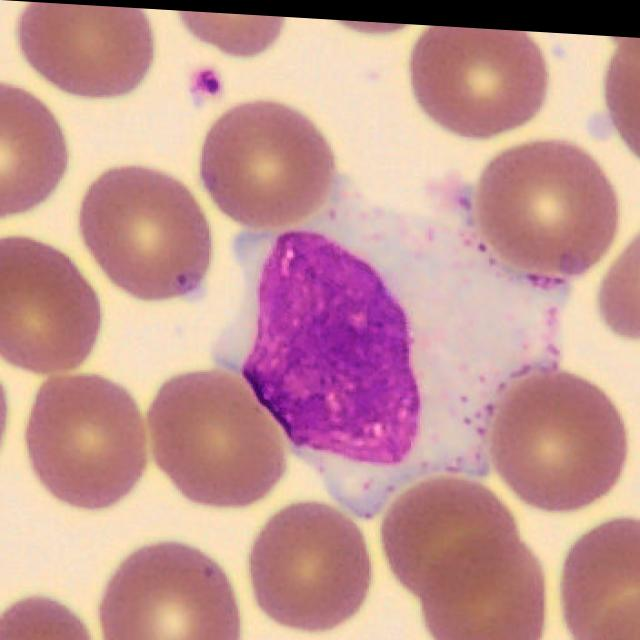Linfocito atipico: (182, 179, 562, 514)
